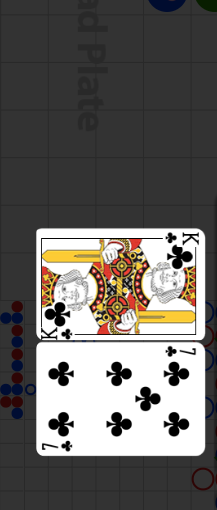7C: (163, 345, 198, 359)
KC: (159, 230, 201, 249)
